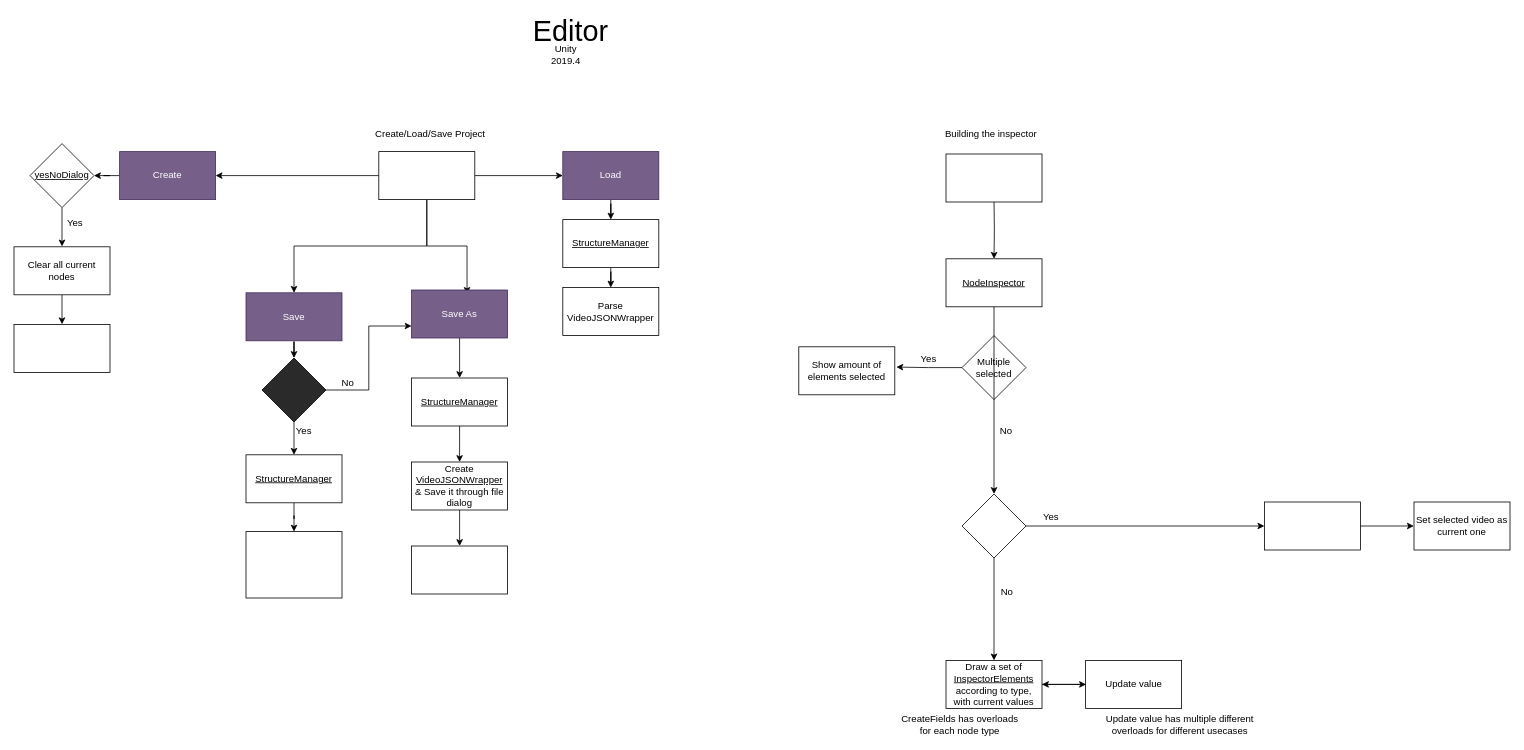
The diagram is 1524 pixels wide and 750 high, and some of its shapes have lost their labels. The shapes that lost their labels are listed below. From the top down, each one's centre as x and y in pixels, then its label:
the point at 426,175: ProjectManager
the point at 993,177: Select nodes
the point at 61,348: Set current project as not yet saved (to not overwrite old project)
the point at 293,389: Saved previously
the point at 993,525: Is Video
the point at 1312,525: EditorVideoPlayer
the point at 293,564: Create VideoJSONWrapper & Save it to previously specified location
the point at 459,569: Save the save location in memory to overwrite with save next time
